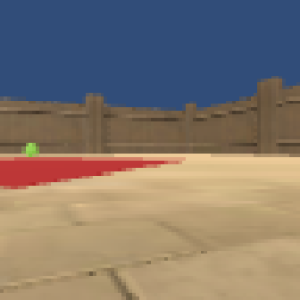deathZone: (1, 155, 180, 189)
goodGoal: (20, 140, 43, 156)
